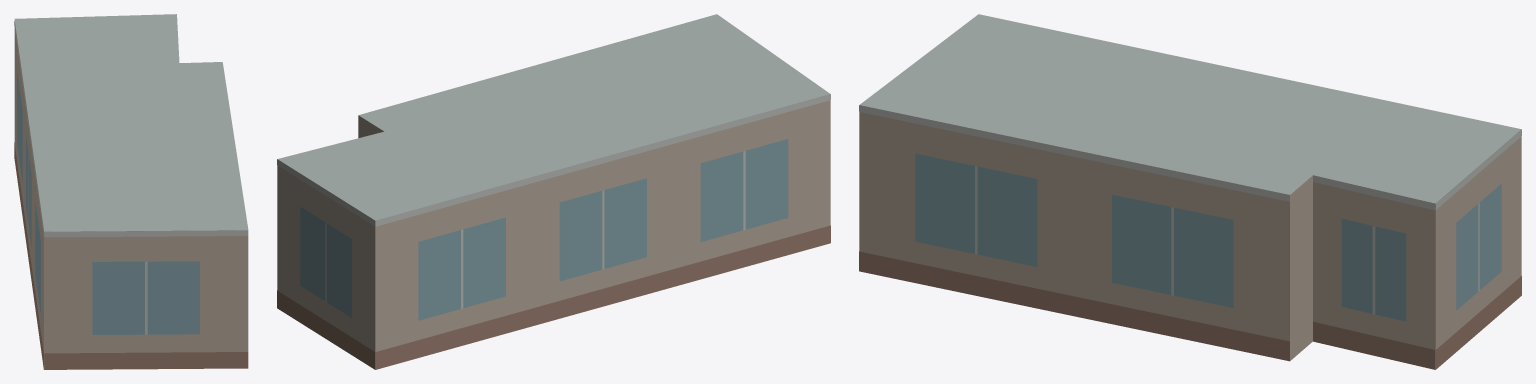
The model's file is survey-upis-32812373.glb.
3 views of the same model, side by side, from view 1: azimuth 30°, elevation 25°; view 2: azimuth 150°, elevation 25°; view 3: azimuth 270°, elevation 25° (orthographic). The views are drawn at different scales.
Visible parts, largest first — view 1: survey-upis-32812373.tmp; view 2: survey-upis-32812373.tmp; view 3: survey-upis-32812373.tmp.
Boxes of the visible parts, x1,y1,x2,y2 form: survey-upis-32812373.tmp: [14, 14, 248, 369]; survey-upis-32812373.tmp: [277, 14, 830, 369]; survey-upis-32812373.tmp: [859, 14, 1521, 369].
Size of the model in its own units: 7.47 by 3.05 by 11.02.
